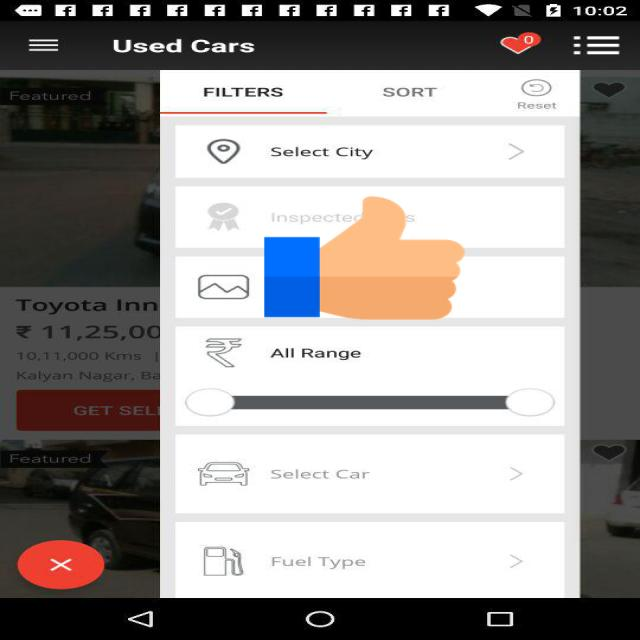privacy zuckering: (264, 193, 465, 323)
